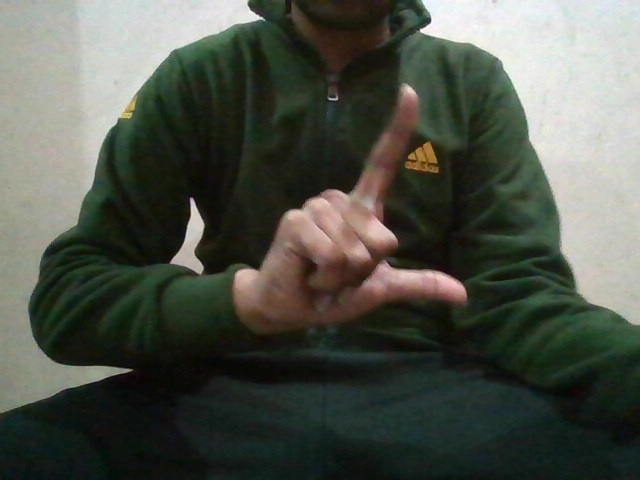L: (257, 81, 482, 333)
